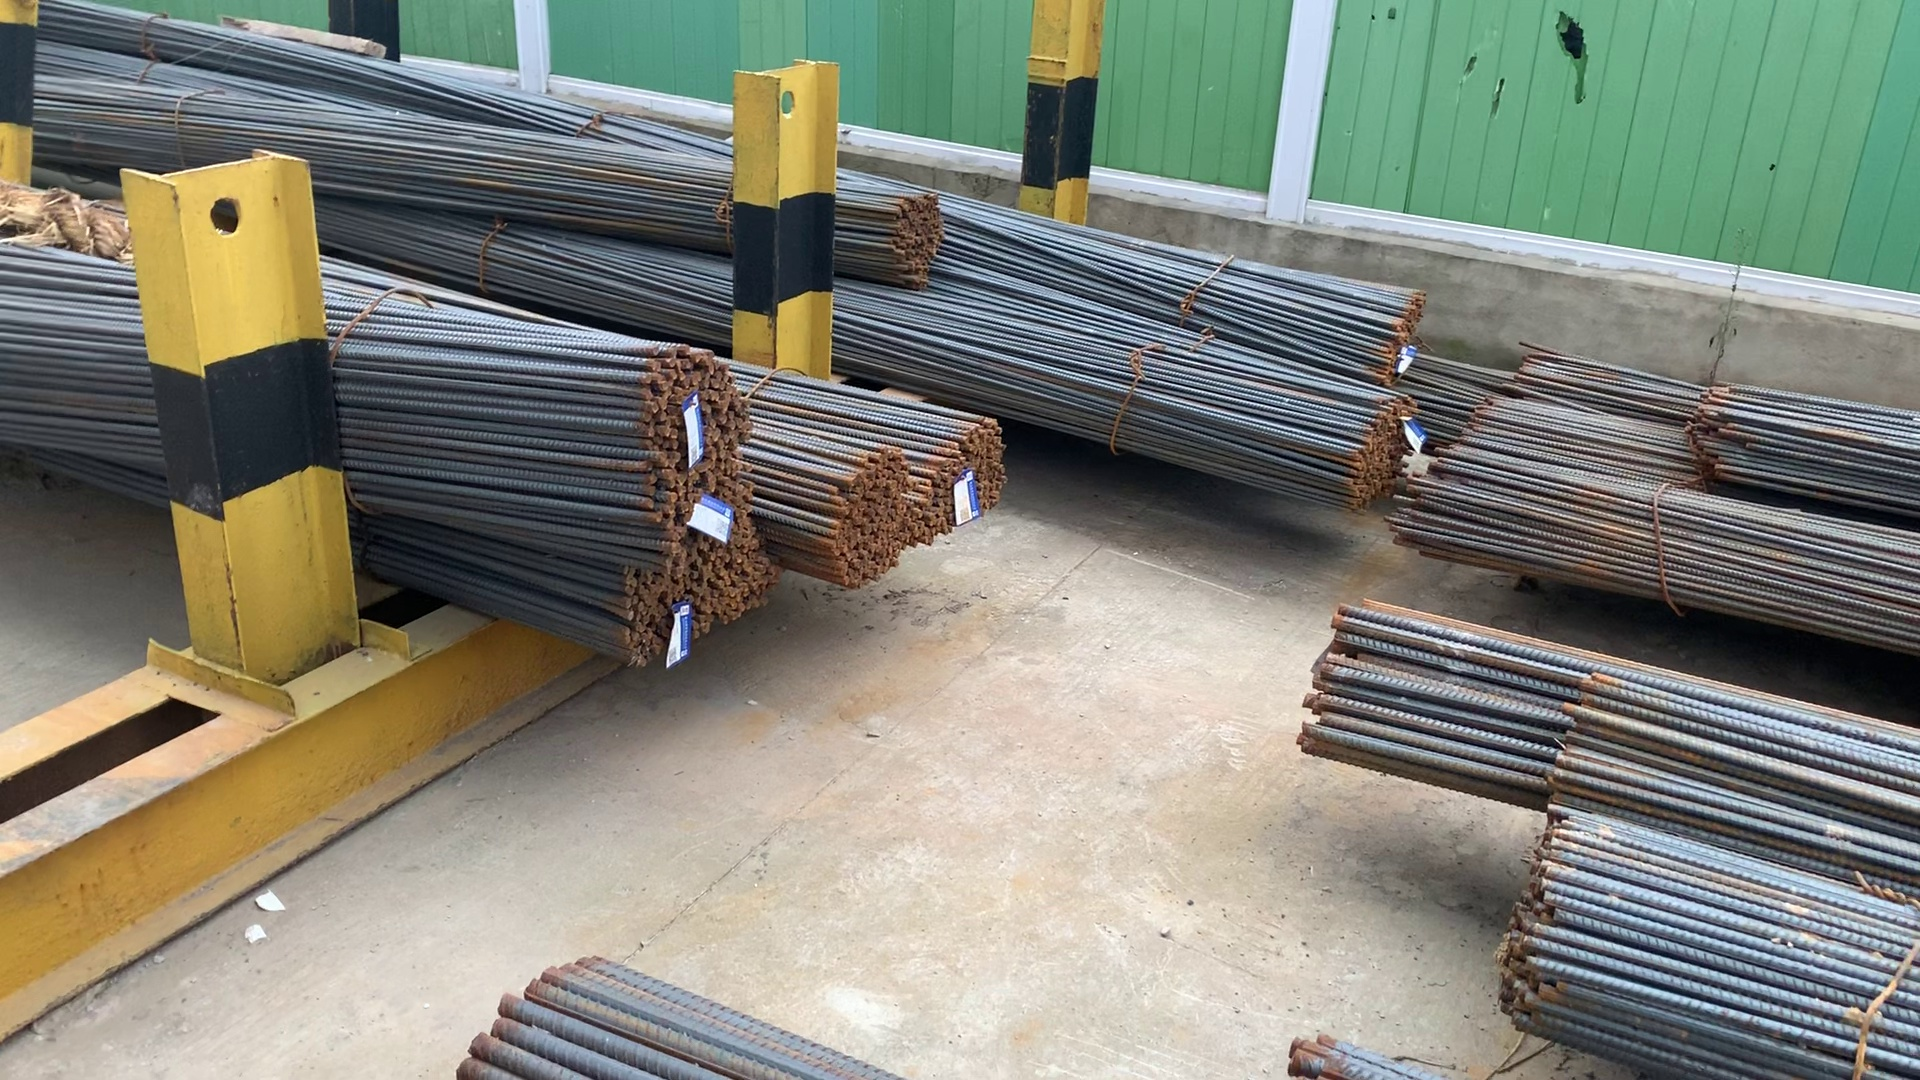rebar: (632, 353, 754, 526), (607, 520, 775, 636), (820, 448, 915, 589), (1333, 393, 1422, 495), (926, 423, 1007, 527), (887, 191, 957, 287), (1364, 284, 1435, 377)
